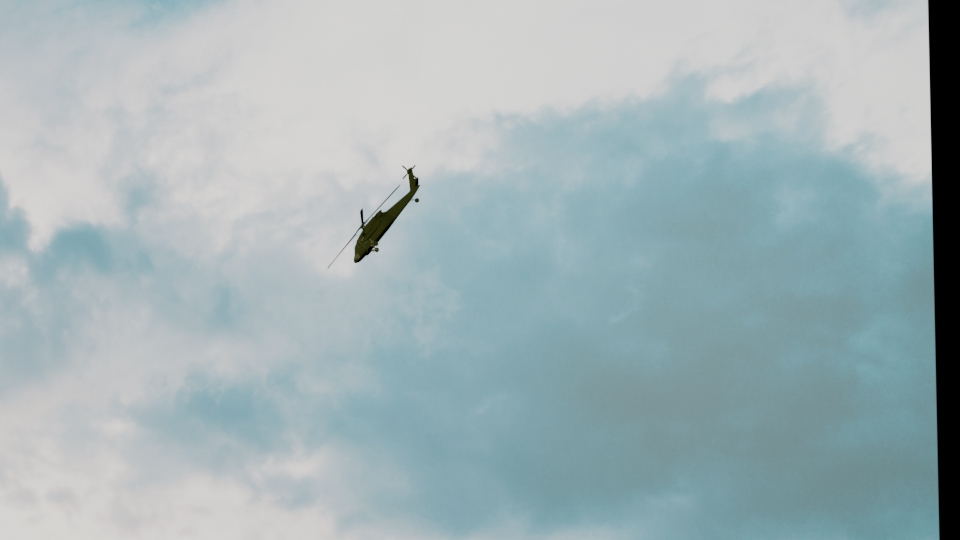heli: (353, 159, 420, 266)
